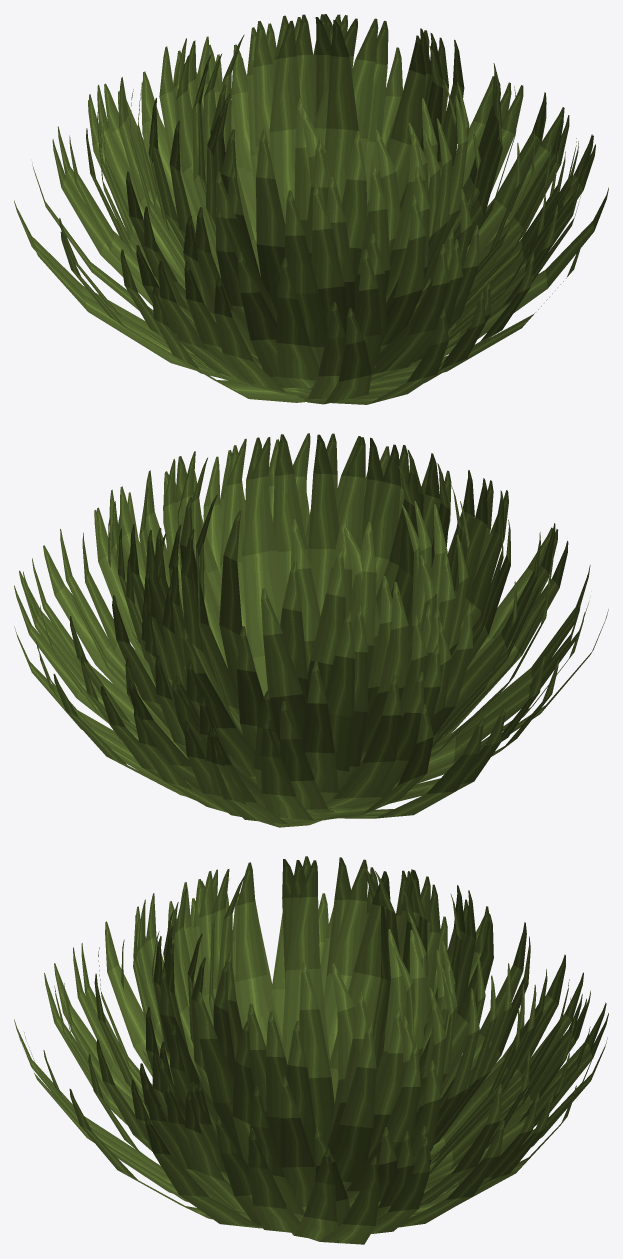
File: DesertPlant.fbx
The picture shows the model from 3 angles, top to bottom: view 1: azimuth 30°, elevation 25°; view 2: azimuth 150°, elevation 25°; view 3: azimuth 270°, elevation 25°; orthographic projection.
Parts seen in each view (by area): view 1: Plane.110; view 2: Plane.110; view 3: Plane.110.
Boxes of the visible parts, x1,y1,x2,y2 form: Plane.110: (14, 14, 608, 404); Plane.110: (14, 433, 608, 827); Plane.110: (14, 856, 608, 1244).
Bounding box in the file's own units: 276 × 172 × 283.
Materials: 1 (1 with a texture image).
